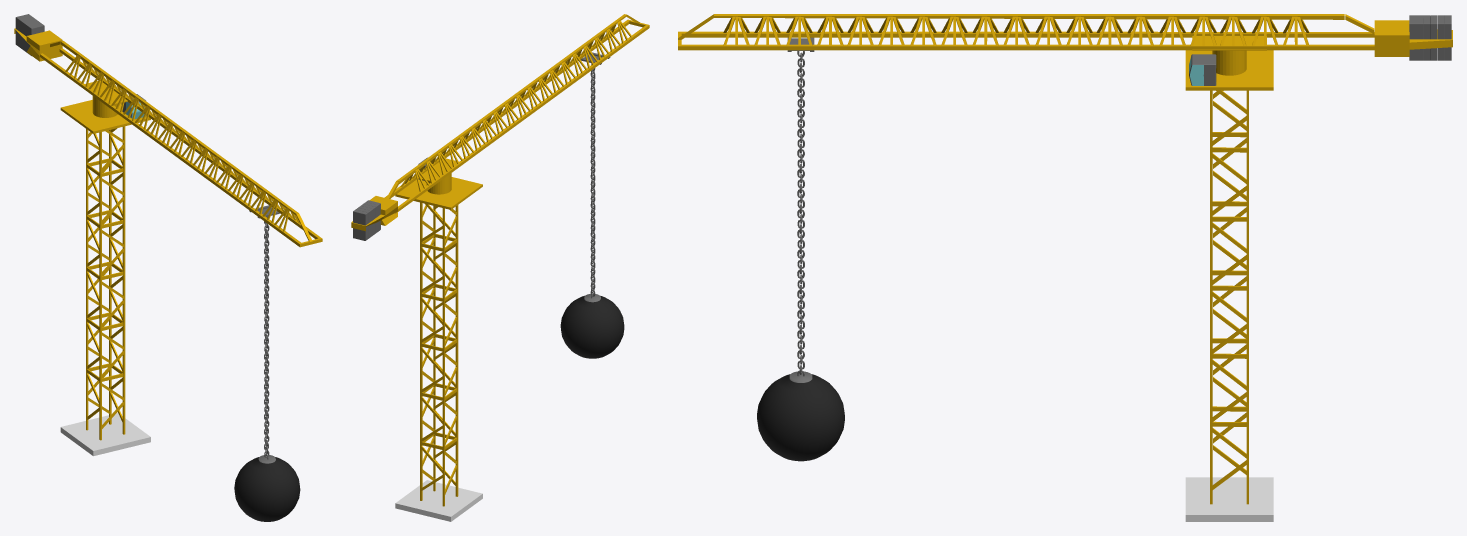
The model's file is crane.fbx.
The picture shows the model from 3 angles, left to right: view 1: azimuth 30°, elevation 25°; view 2: azimuth 150°, elevation 25°; view 3: azimuth 270°, elevation 25°; orthographic projection. The views are drawn at different scales.
Visible parts, largest first — view 1: Cube.002, Cube.004, Cube, Cube.008; view 2: Cube.002, Cube.004, Cube, Cube.008; view 3: Cube.002, Cube.004, Cube, Cube.008, Cube.001.
Boxes of the visible parts, x1=… form: Cube.002: x1=14, y1=14, x2=322, y2=521; Cube.004: x1=86, y1=126, x2=125, y2=440; Cube: x1=60, y1=413, x2=150, y2=456; Cube.008: x1=60, y1=100, x2=150, y2=133; Cube.002: x1=351, y1=14, x2=649, y2=358; Cube.004: x1=420, y1=202, x2=458, y2=506; Cube: x1=395, y1=480, x2=482, y2=521; Cube.008: x1=395, y1=177, x2=482, y2=209; Cube.002: x1=678, y1=14, x2=1452, y2=461; Cube.004: x1=1210, y1=90, x2=1248, y2=504; Cube: x1=1185, y1=477, x2=1273, y2=521; Cube.008: x1=1185, y1=50, x2=1273, y2=90; Cube.001: x1=1189, y1=54, x2=1216, y2=85.
Bounding box in the file's own units: 205 × 1214 × 1747.
